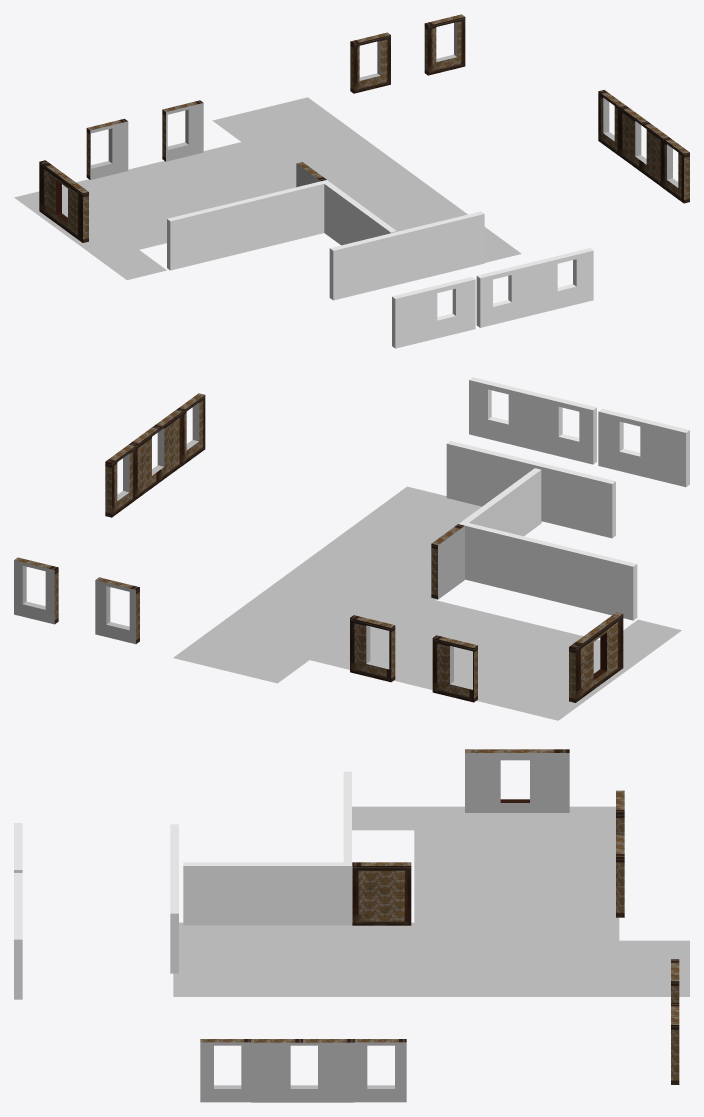
File: Grd_Windows.fbx
3 views of the same model, one above another, from view 1: azimuth 30°, elevation 25°; view 2: azimuth 150°, elevation 25°; view 3: azimuth 270°, elevation 25° (orthographic). The views are drawn at different scales.
Visible parts, largest first — view 1: Office_room, Plane.002, Gaming_room_wall__1_, Kitchen_wall.001, Kitchen_wall3, Pantry_wall2, Wall__5__1.001, Gaming_room_wall_001, Kitchen_wall, Wall__3__2, Wall__1__1, Wall__3__5 (+5 smaller); view 2: Plane.002, Office_room, Gaming_room_wall__1_, Kitchen_wall3, Kitchen_wall.001, Pantry_wall2, Wall__5__1.001, Gaming_room_wall_001, Kitchen_wall, Wall__1__1, Wall__2__1.001, Wall__3__2 (+6 smaller); view 3: Plane.002, Office_room, Gaming_room_wall_001, Wall__5__1.001, Wall__2__1.001, Wall__5__5, Wall__4__8, Wall__3__7, Wall__6__3, Gaming_room_wall__1_, Kitchen_wall.001, Kitchen_wall3 (+2 smaller).
Part boxes in pixels (x1=…): Office_room: x1=14, y1=142, x2=296, y2=279; Plane.002: x1=212, y1=97, x2=521, y2=262; Gaming_room_wall__1_: x1=167, y1=180, x2=329, y2=270; Kitchen_wall.001: x1=368, y1=211, x2=484, y2=290; Kitchen_wall3: x1=476, y1=248, x2=593, y2=327; Pantry_wall2: x1=392, y1=277, x2=475, y2=348; Wall__5__1.001: x1=39, y1=160, x2=88, y2=242; Gaming_room_wall_001: x1=324, y1=182, x2=396, y2=245; Kitchen_wall: x1=329, y1=239, x2=371, y2=300; Wall__3__2: x1=86, y1=118, x2=128, y2=179; Wall__1__1: x1=162, y1=100, x2=203, y2=161; Wall__3__5: x1=424, y1=14, x2=465, y2=75; Plane.002: x1=173, y1=486, x2=542, y2=683; Office_room: x1=310, y1=592, x2=681, y2=720; Gaming_room_wall__1_: x1=458, y1=521, x2=637, y2=620; Kitchen_wall3: x1=469, y1=377, x2=596, y2=464; Kitchen_wall.001: x1=446, y1=441, x2=574, y2=528; Pantry_wall2: x1=598, y1=408, x2=689, y2=487; Wall__5__1.001: x1=569, y1=612, x2=623, y2=702; Gaming_room_wall_001: x1=462, y1=468, x2=541, y2=536; Kitchen_wall: x1=570, y1=471, x2=615, y2=538; Wall__1__1: x1=350, y1=615, x2=395, y2=682; Wall__2__1.001: x1=431, y1=524, x2=464, y2=599; Wall__3__2: x1=432, y1=635, x2=477, y2=702; Plane.002: x1=173, y1=922, x2=689, y2=996; Office_room: x1=352, y1=806, x2=619, y2=940; Gaming_room_wall_001: x1=183, y1=862, x2=343, y2=925; Wall__5__1.001: x1=465, y1=749, x2=569, y2=812; Wall__2__1.001: x1=352, y1=862, x2=411, y2=925; Wall__5__5: x1=251, y1=1039, x2=302, y2=1102; Wall__4__8: x1=303, y1=1039, x2=354, y2=1102; Wall__3__7: x1=354, y1=1039, x2=406, y2=1102; Wall__6__3: x1=200, y1=1039, x2=250, y2=1102; Gaming_room_wall__1_: x1=343, y1=771, x2=351, y2=925; Kitchen_wall.001: x1=170, y1=846, x2=178, y2=973; Kitchen_wall3: x1=14, y1=873, x2=22, y2=999.
Size of the model in its own units: 3712 by 357 by 3583.
